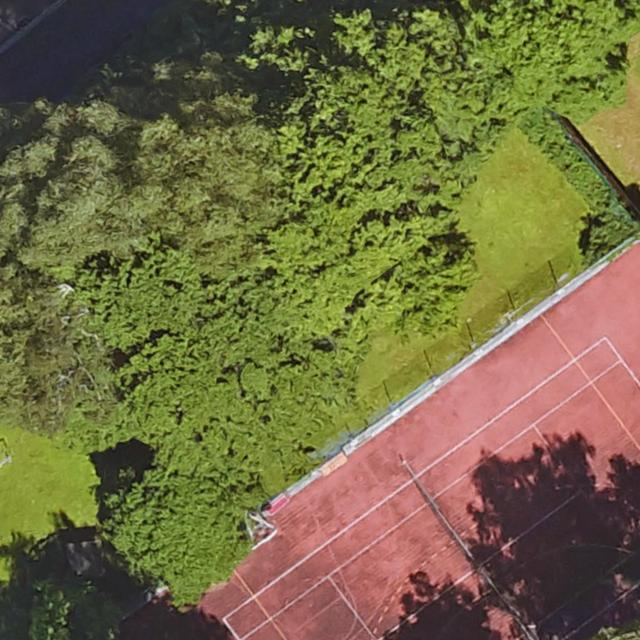tree: (0, 37, 251, 265), (120, 328, 361, 478), (0, 273, 103, 433), (119, 459, 236, 597)
